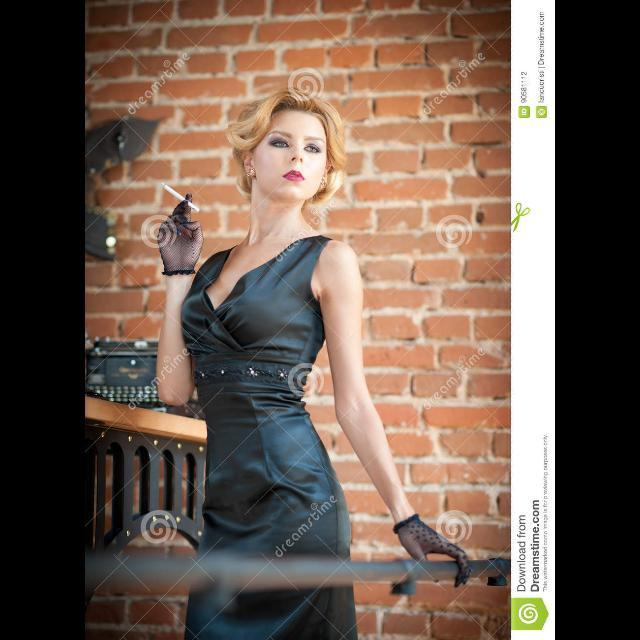rokok: (160, 181, 206, 211)
